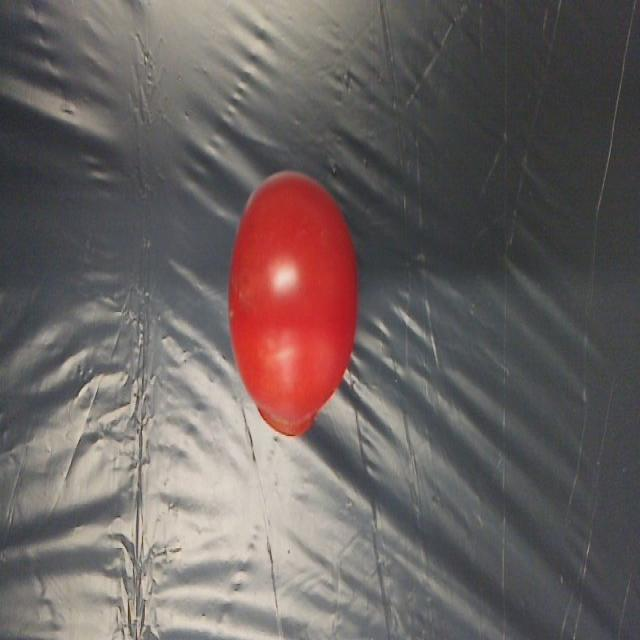kirmizi: (211, 173, 366, 467)
